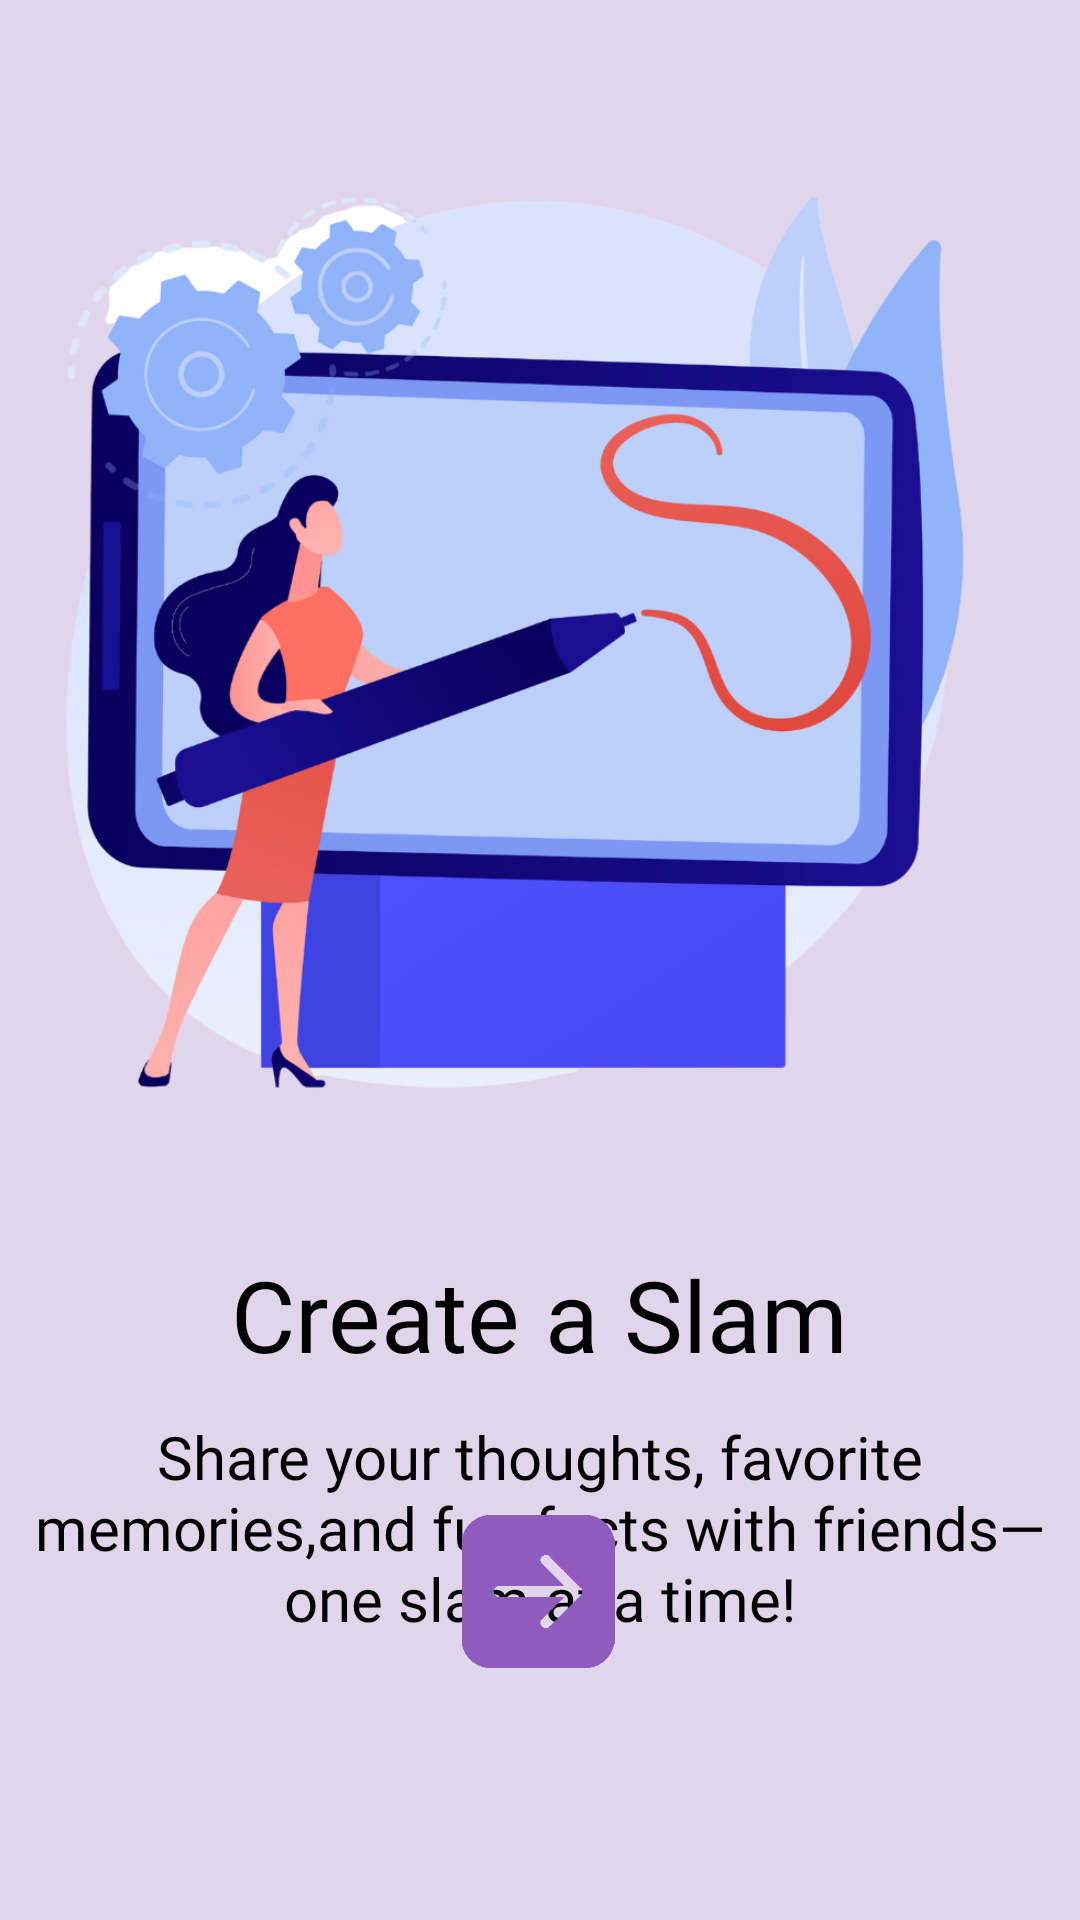

Named icons in this screenshot (1080×1920) and their centers, point (x, y):
nextarrow: point (538, 1591)
